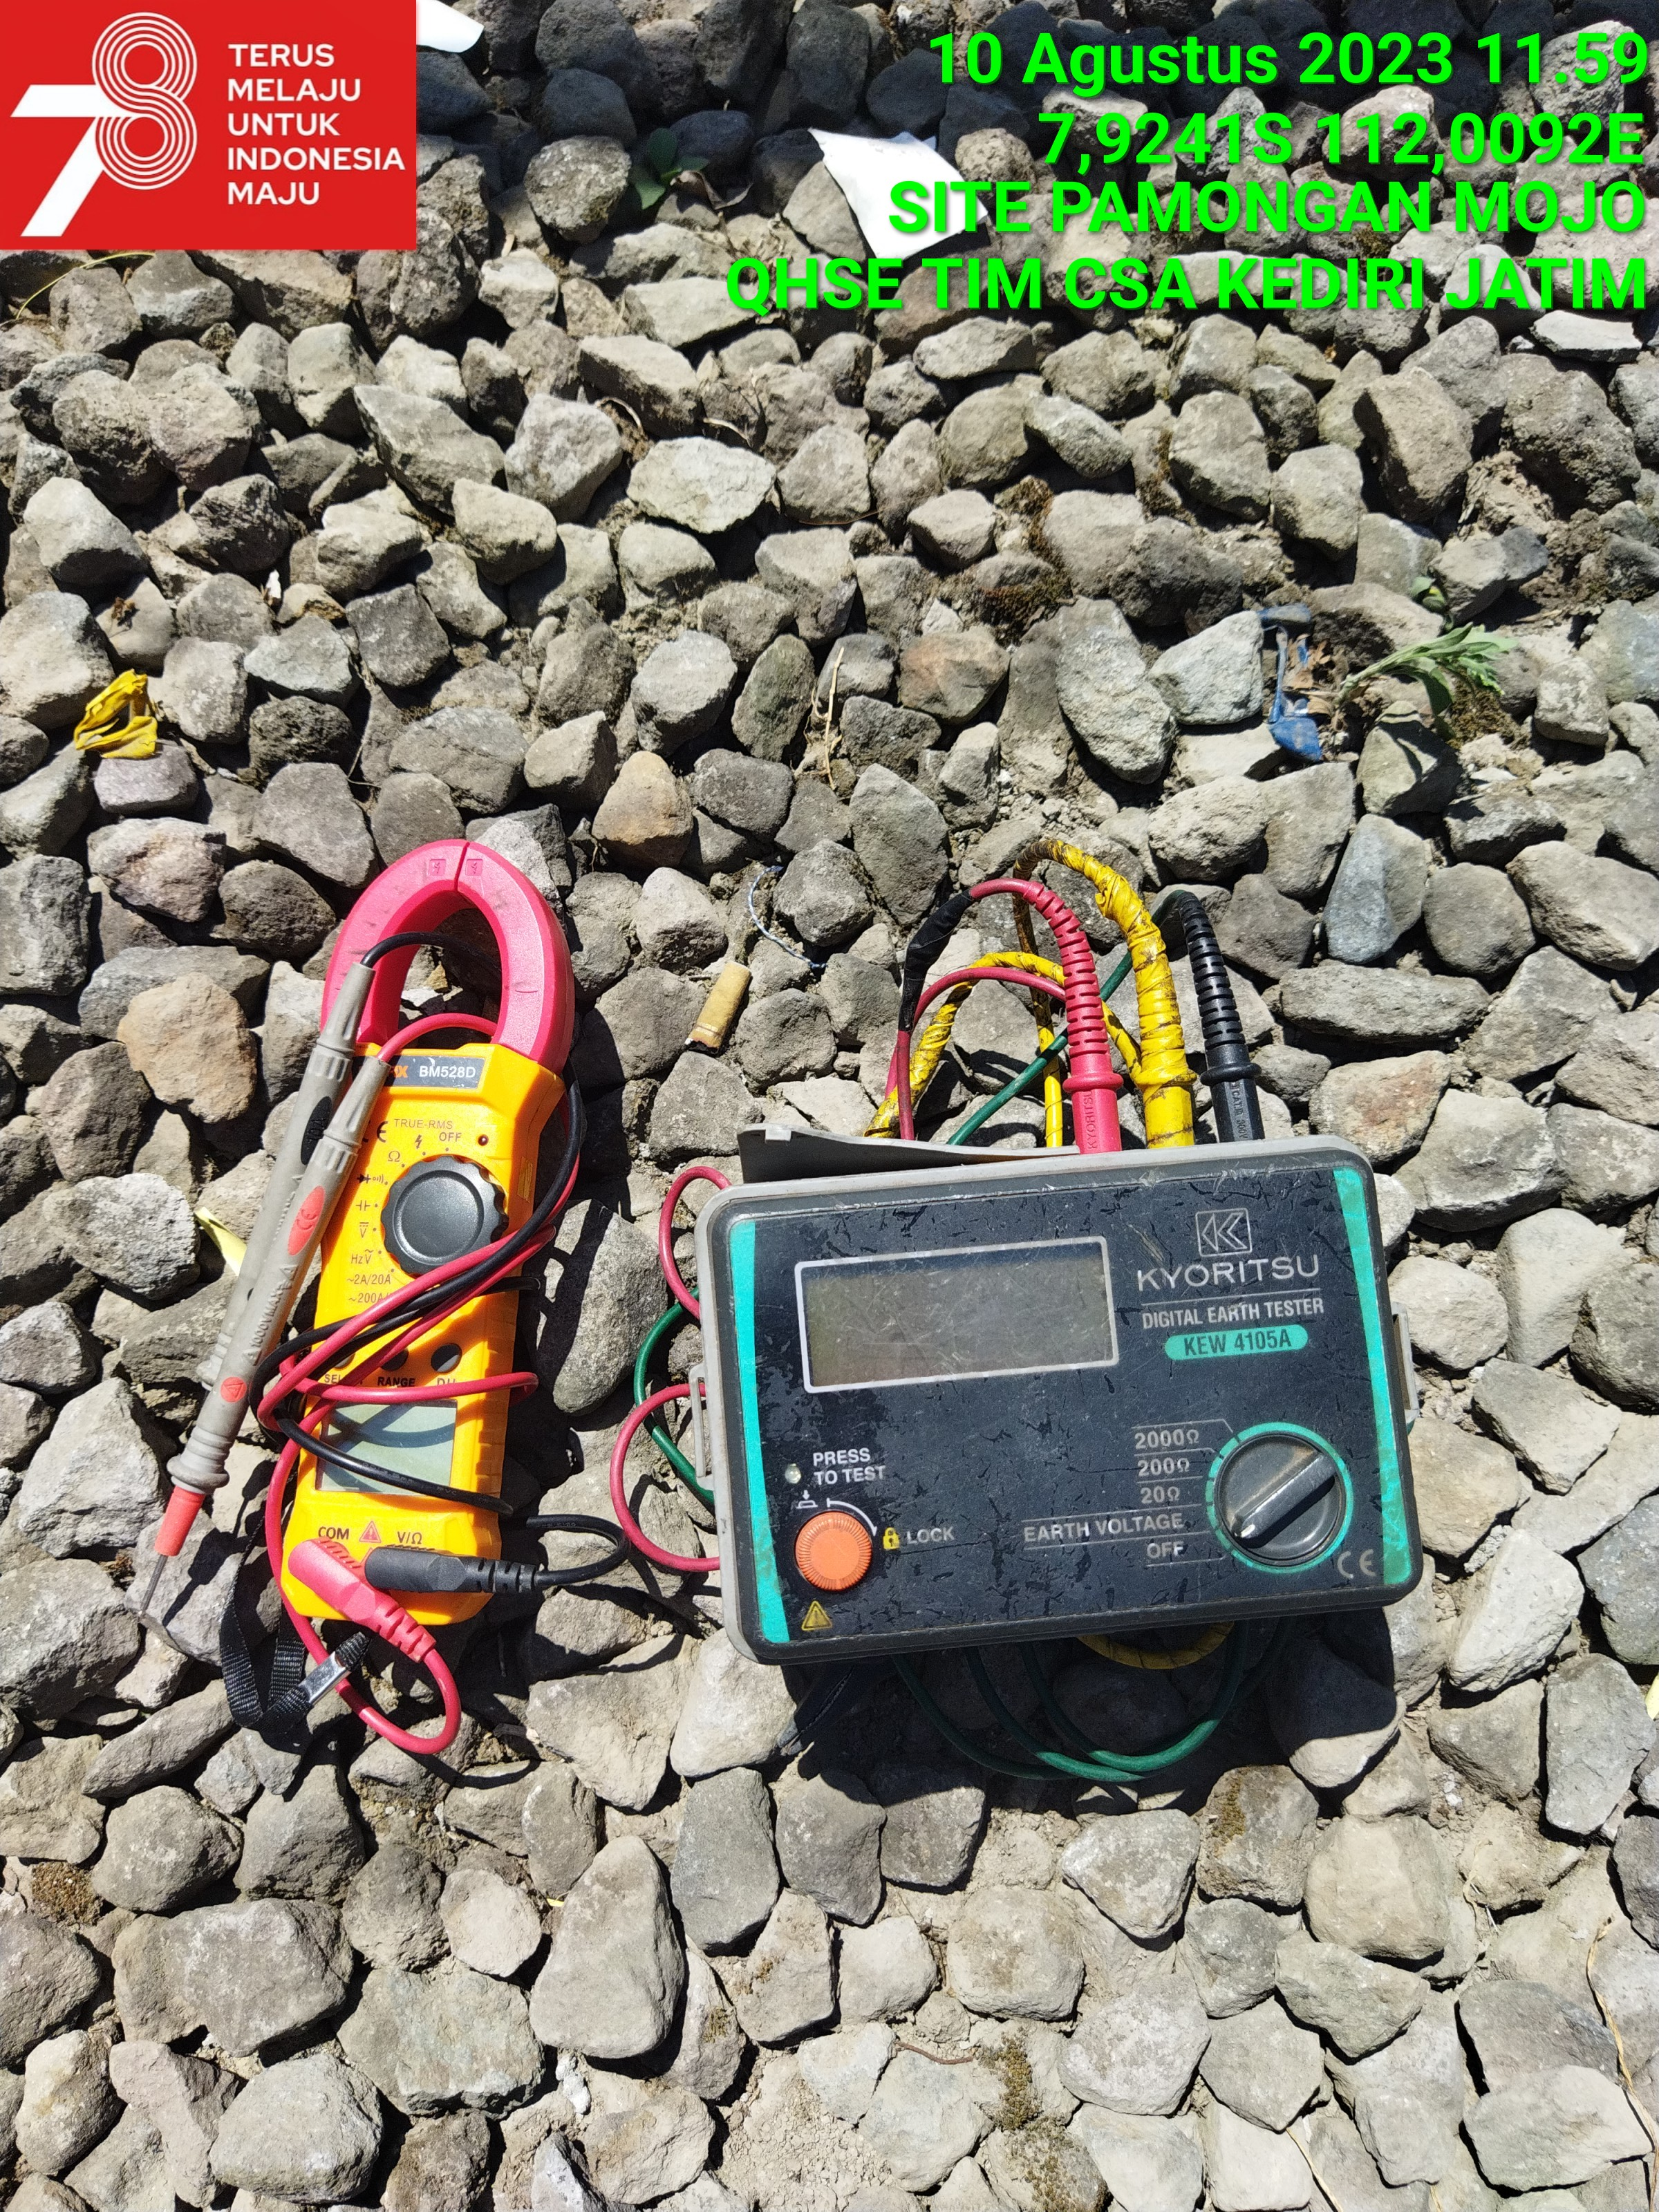EARTH_GROUNDING_TESTER: (695, 1116, 1424, 1669)
TANG_AMPERE: (249, 838, 538, 1622)
